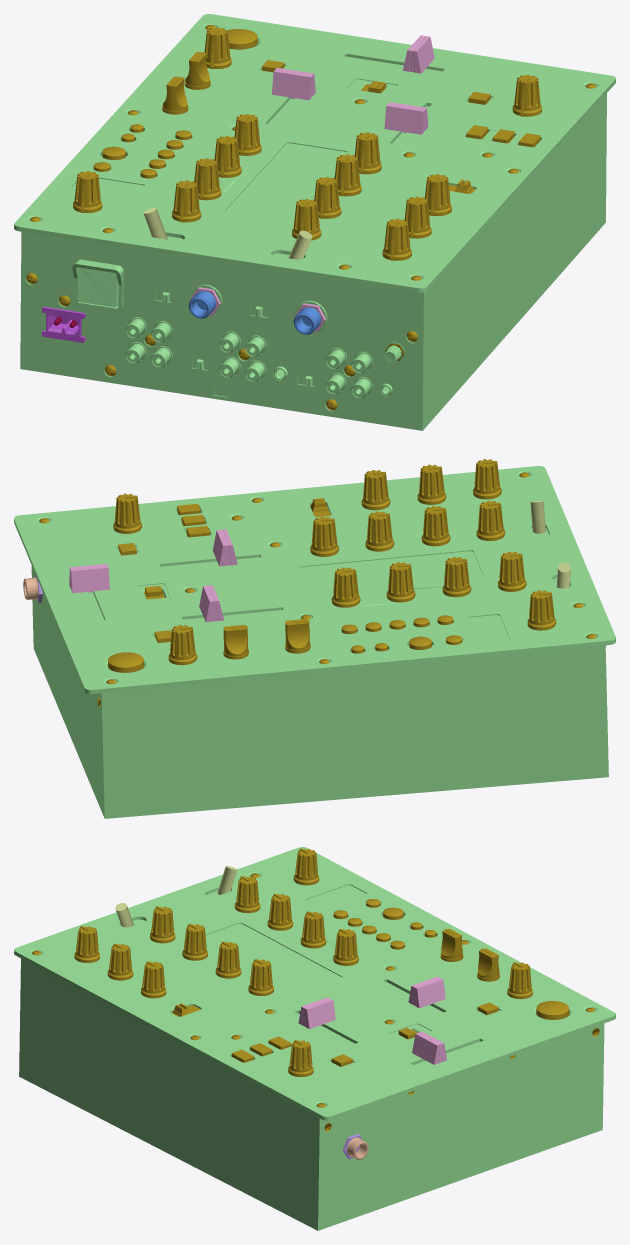
The model's file is DJ MIxer.obj.
The picture shows the model from 3 angles, top to bottom: view 1: azimuth 30°, elevation 25°; view 2: azimuth 150°, elevation 25°; view 3: azimuth 270°, elevation 25°; orthographic projection. The views are drawn at different scales.
Visible parts, largest first — view 1: Front, Body, Object57, Poweronoff, Bott_set3, Box03, Box04, Circle14, Rectangle02, Key_2, Key_4, Key_16 (+15 smaller); view 2: Front, Body, Bott_set3, Box05, Key_9, Key_8, Key_6, Key_13, Key_16, Key_2, Key_3, Key_5 (+11 smaller); view 3: Front, Body, Bott_set3, Box04, Box03, Box05, Key_16, Key_1, Key_2, Key_5, Key_8, Key_9 (+11 smaller).
Part boxes in pixels (x1,y1,x2,y2): Front: (14, 14, 615, 292); Body: (20, 93, 606, 430); Object57: (125, 317, 372, 398); Poweronoff: (72, 259, 123, 312); Bott_set3: (228, 29, 540, 147); Box03: (384, 102, 428, 134); Box04: (271, 67, 315, 100); Circle14: (188, 291, 321, 334); Rectangle02: (42, 306, 85, 342); Key_2: (382, 218, 411, 260); Key_4: (172, 180, 201, 222); Key_16: (73, 171, 102, 212); Front: (14, 466, 615, 694); Body: (31, 566, 608, 818); Bott_set3: (108, 503, 210, 672); Box05: (69, 563, 109, 593); Key_9: (386, 562, 415, 602); Key_8: (365, 511, 394, 551); Key_6: (421, 506, 450, 546); Key_13: (168, 625, 197, 665); Key_16: (527, 590, 556, 630); Key_2: (473, 459, 501, 499); Key_3: (476, 500, 505, 540); Key_5: (361, 470, 390, 510); Front: (14, 847, 615, 1120); Body: (19, 958, 604, 1230); Bott_set3: (231, 1001, 569, 1066); Box04: (408, 976, 445, 1008); Box03: (298, 997, 335, 1028); Box05: (412, 1031, 446, 1064); Key_16: (293, 848, 319, 885); Key_1: (107, 943, 133, 980); Key_2: (74, 926, 99, 962); Key_5: (140, 961, 166, 998); Key_8: (215, 941, 241, 978); Key_9: (300, 911, 326, 948).
Size of the model in its own units: 376 by 106 by 368.
